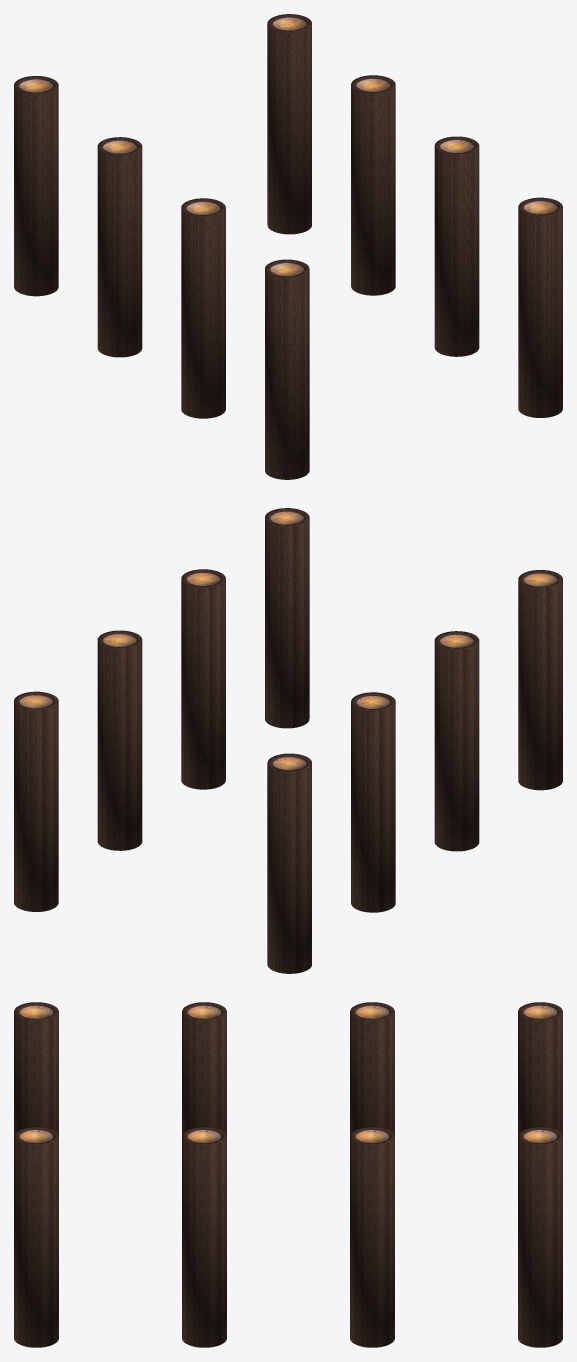
File: LogSite.fbx
The picture shows the model from 3 angles, top to bottom: view 1: azimuth 30°, elevation 25°; view 2: azimuth 150°, elevation 25°; view 3: azimuth 270°, elevation 25°; orthographic projection.
Visible parts, largest first — view 1: Cylinder; view 2: Cylinder; view 3: Cylinder.
Boxes of the visible parts, x1,y1,x2,y2 form: Cylinder: [14, 14, 562, 479]; Cylinder: [14, 508, 562, 973]; Cylinder: [14, 1002, 562, 1347].
Size of the model in its own units: 807 by 532 by 1307.
